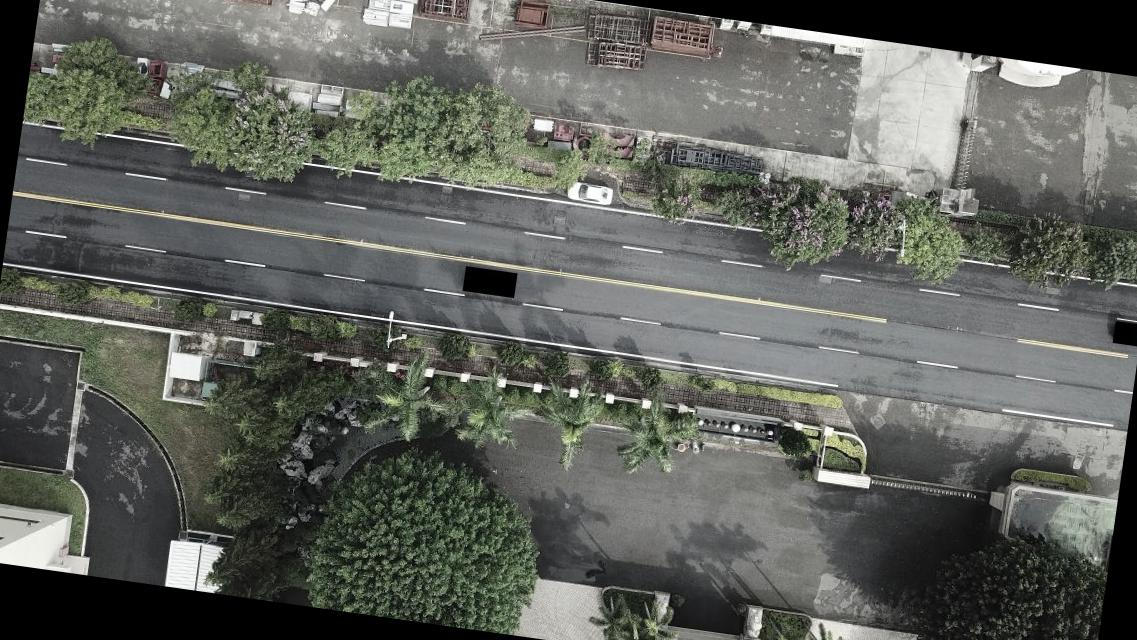vehicle: (566, 179, 616, 209)
